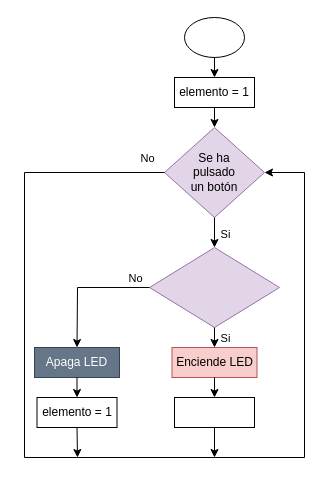
Image size: 330x483. Some labels were removed from this diagram. The shapes that lost their labels are listed below. From the top down, each one's box as (x1, y1, x2, y2) in pixels, then its label:
(184, 16, 244, 58): Inicio
(148, 246, 280, 328): ¿Es elemento = 1?
(174, 396, 254, 428): elemento = 0
